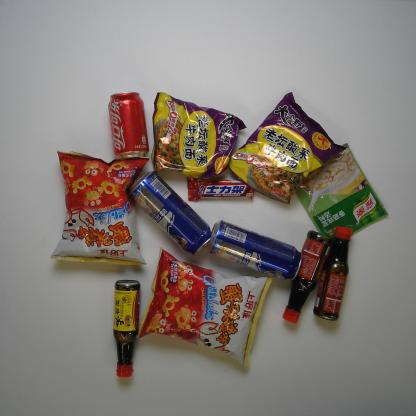Alcohol: (127, 169, 213, 257), (206, 219, 303, 281)
Chocolate: (186, 176, 256, 202)
Drink: (107, 90, 150, 160)
Instant Noodles: (228, 90, 348, 205), (150, 91, 247, 180)
Puffed Food: (136, 246, 274, 369), (50, 150, 151, 266)
Seasoner: (293, 142, 390, 244), (281, 229, 334, 324), (313, 225, 353, 322), (112, 279, 141, 378)
